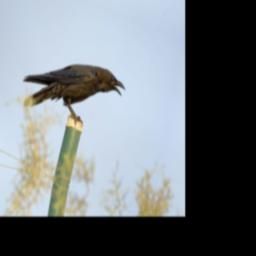Crow: (16, 35, 130, 142)
